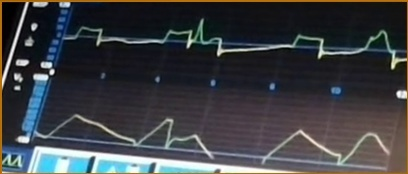Double_Triggering Flow: (65, 12, 406, 72)
Double_Triggering Volume: (36, 99, 389, 166)
